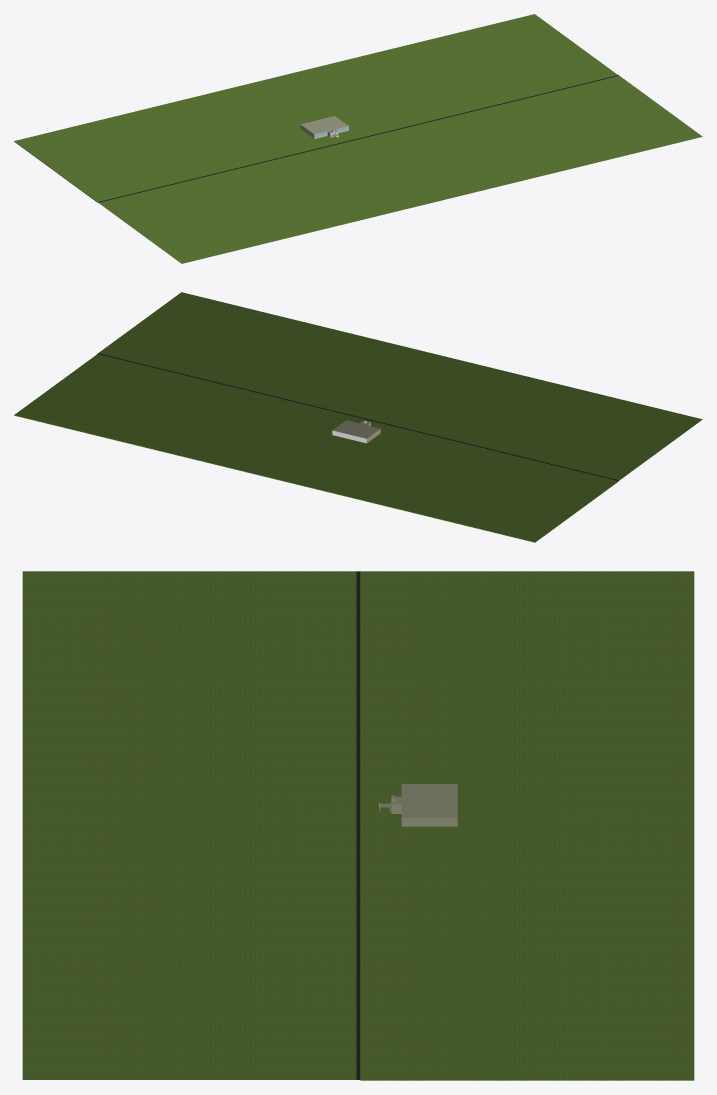
File: ENVO_Hospital.obj
3 renders of one model, top to bottom at view 1: azimuth 30°, elevation 25°; view 2: azimuth 150°, elevation 25°; view 3: azimuth 270°, elevation 25°, orthographic. The views are drawn at different scales.
Parts seen in each view (by area): view 1: Hospital; view 2: Hospital; view 3: Hospital.
Boxes of the visible parts, x1,y1,x2,y2 form: Hospital: (14,14,702,263); Hospital: (14,292,702,542); Hospital: (22,571,694,1080).
Size of what is drawn, in the model's own units: 104525 by 1353 by 58301.
16 materials, 8 textured.
